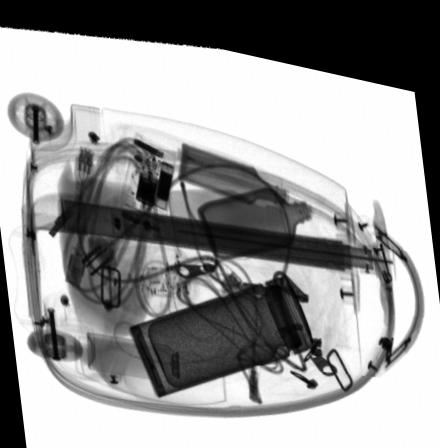Sprayer: (85, 326, 198, 374)
